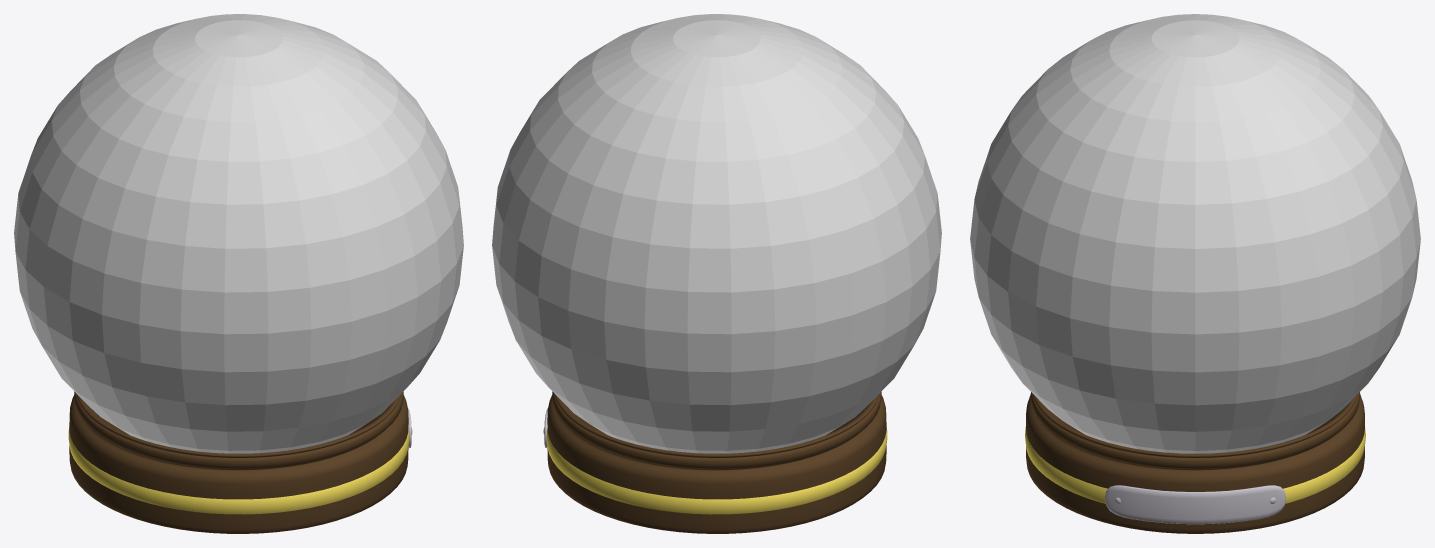
The model's file is bottom3b.glb.
The picture shows the model from 3 angles, left to right: view 1: azimuth 30°, elevation 25°; view 2: azimuth 150°, elevation 25°; view 3: azimuth 270°, elevation 25°; orthographic projection.
Parts seen in each view (by area): view 1: Sphere, colorPart, line; view 2: Sphere, colorPart, line; view 3: Sphere, colorPart, nameTag, line.
Part boxes in pixels (box(x1,y1,x2,y2)): Sphere: box(14, 14, 463, 453); colorPart: box(69, 391, 408, 533); line: box(68, 427, 409, 514); Sphere: box(492, 14, 941, 453); colorPart: box(547, 391, 886, 533); line: box(546, 427, 887, 514); Sphere: box(970, 14, 1420, 453); colorPart: box(1026, 392, 1364, 533); nameTag: box(1105, 485, 1285, 524); line: box(1025, 427, 1365, 503).
Size of the model in its own units: 14 by 14.69 by 14.
